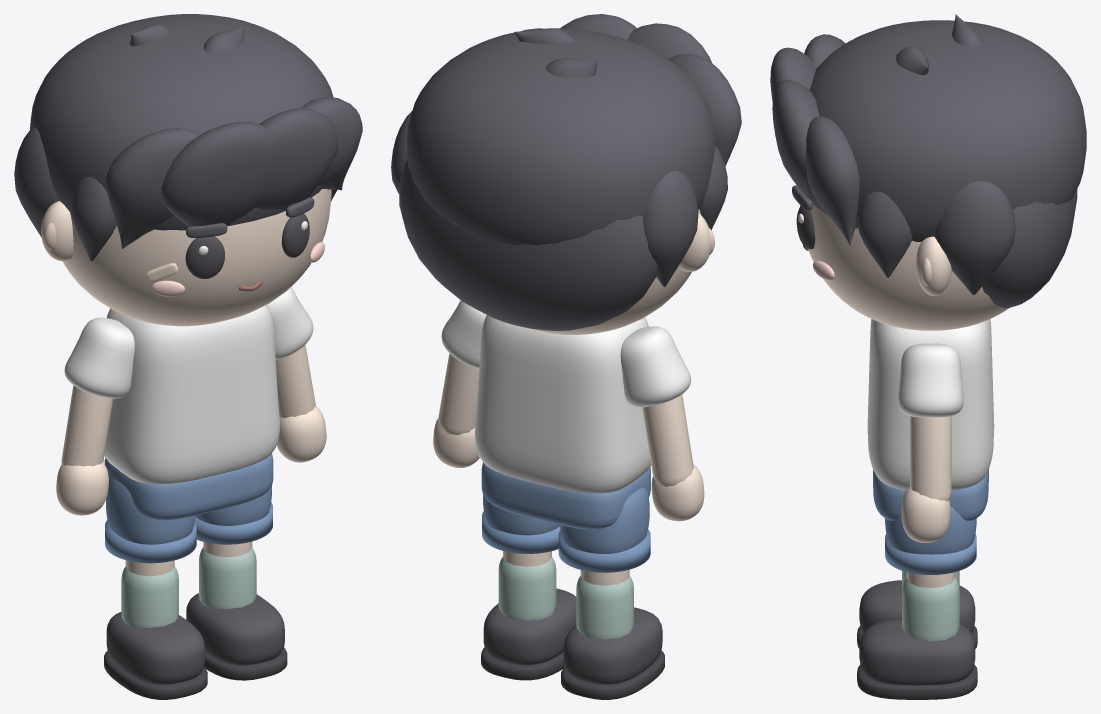
File: Kai_v2.glb
The picture shows the model from 3 angles, left to right: view 1: azimuth 30°, elevation 25°; view 2: azimuth 150°, elevation 25°; view 3: azimuth 270°, elevation 25°; orthographic projection.
Parts seen in each view (by area): view 1: hair_mass, tee, head, fringe1, fringe2, fringe0, shorts, shoe_R, shoe_L, sleeve_R, arm_R, sock_L (+21 smaller); view 2: hair_mass, tee, hair_back, shorts, shoe_R, sleeve_R, shoe_L, side_back_R, arm_R, sock_L, sock_R, fringe0 (+20 smaller); view 3: hair_mass, tee, head, side_back_L, shoe_L, hair_back, fringe3, sleeve_L, fringe2, arm_L, sock_L, side_L (+13 smaller).
Boxes of the visible parts, box(x1,y1,x2,y2) form: hair_mass: box(30, 14, 333, 230); tee: box(104, 304, 279, 484); head: box(62, 189, 331, 326); fringe1: box(161, 122, 268, 226); fringe2: box(255, 108, 337, 210); fringe0: box(105, 128, 200, 249); shorts: box(104, 453, 273, 520); shoe_R: box(106, 612, 205, 684); shoe_L: box(186, 593, 284, 665); sleeve_R: box(64, 317, 134, 398); arm_R: box(61, 385, 113, 466); sock_L: box(199, 547, 256, 609); hair_mass: box(406, 28, 716, 245); tee: box(475, 315, 651, 493); hair_back: box(399, 160, 657, 330); shorts: box(481, 462, 650, 529); shoe_R: box(563, 607, 662, 684); sleeve_R: box(620, 326, 691, 407); shoe_L: box(483, 588, 576, 665); side_back_R: box(643, 171, 698, 287); arm_R: box(642, 394, 693, 486); sock_L: box(498, 557, 556, 620); sock_R: box(576, 575, 633, 639); fringe0: box(668, 53, 741, 165); hair_mass: box(809, 20, 1086, 241); tee: box(867, 319, 994, 490); head: box(800, 204, 1008, 330); side_back_L: box(934, 181, 1015, 295); shoe_L: box(859, 619, 975, 685); hair_back: box(982, 189, 1077, 308); fringe3: box(806, 116, 859, 245); sleeve_L: box(898, 343, 963, 417); fringe2: box(772, 80, 819, 204); arm_L: box(910, 416, 951, 501); sock_L: box(902, 578, 959, 641); side_L: box(857, 191, 912, 277).
Bounding box in the file's own units: 0.5498 × 1.14 × 0.5172.
